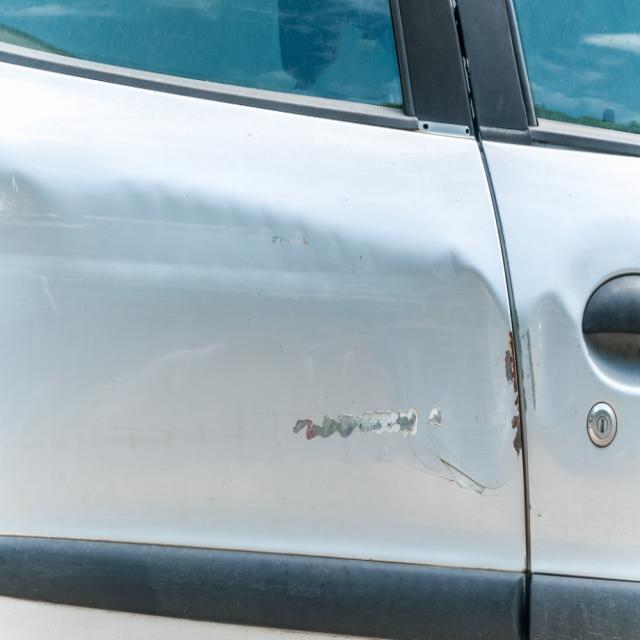dent: (0, 165, 516, 491), (523, 293, 584, 465)
